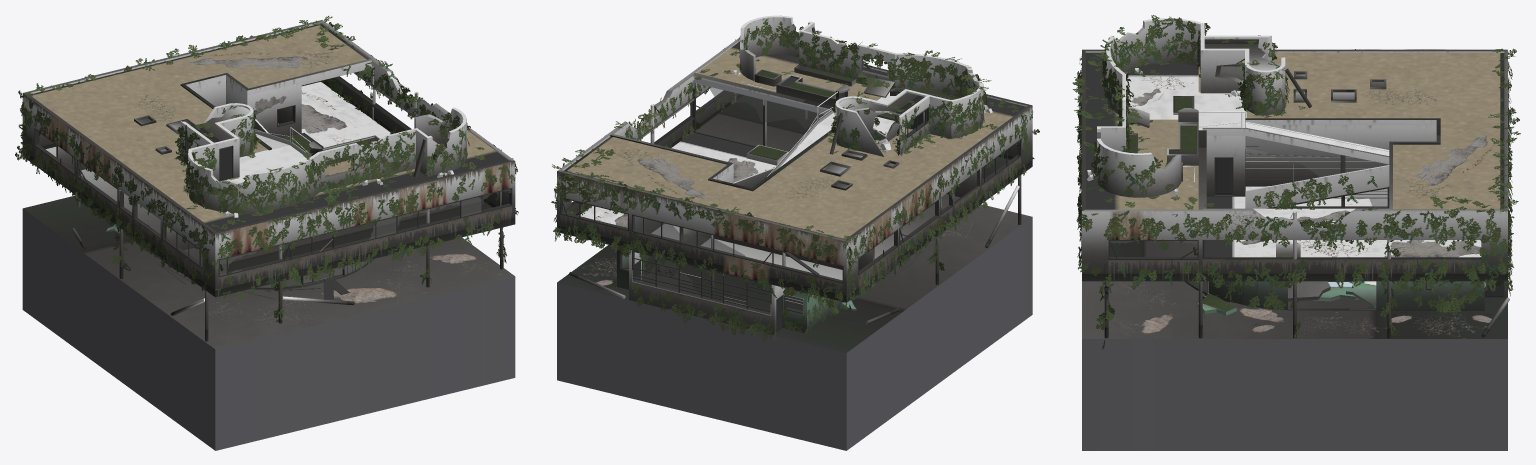
Rendered from Villa Savoye - Overgrown.glb.
The picture shows the model from 3 angles, left to right: view 1: azimuth 30°, elevation 25°; view 2: azimuth 150°, elevation 25°; view 3: azimuth 270°, elevation 25°; orthographic projection. The views are drawn at different scales.
Parts seen in each view (by area): view 1: Ruine Version, Ruine Version.003, Decals, Ruine Version_Glass; view 2: Ruine Version, Ruine Version.003, Decals, Ruine Version_Glass, Ruine Version.004; view 3: Ruine Version, Ruine Version.003, Decals, Ruine Version.004, Ruine Version_Glass.
Boxes of the visible parts, x1,y1,x2,y2 form: Ruine Version: (22, 20, 515, 450); Ruine Version.003: (15, 16, 518, 321); Decals: (22, 48, 515, 327); Ruine Version_Glass: (219, 189, 511, 287); Ruine Version: (557, 15, 1032, 450); Ruine Version.003: (551, 19, 1039, 341); Decals: (557, 106, 1032, 322); Ruine Version_Glass: (561, 86, 824, 298); Ruine Version.004: (617, 247, 658, 289); Ruine Version: (1081, 18, 1509, 450); Ruine Version.003: (1072, 15, 1520, 348); Decals: (1102, 49, 1493, 338); Ruine Version.004: (1209, 281, 1484, 310); Ruine Version_Glass: (1109, 136, 1430, 292).
Size of the model in its own units: 2.73 by 2.13 by 3.03.
5 materials, 4 textured.
